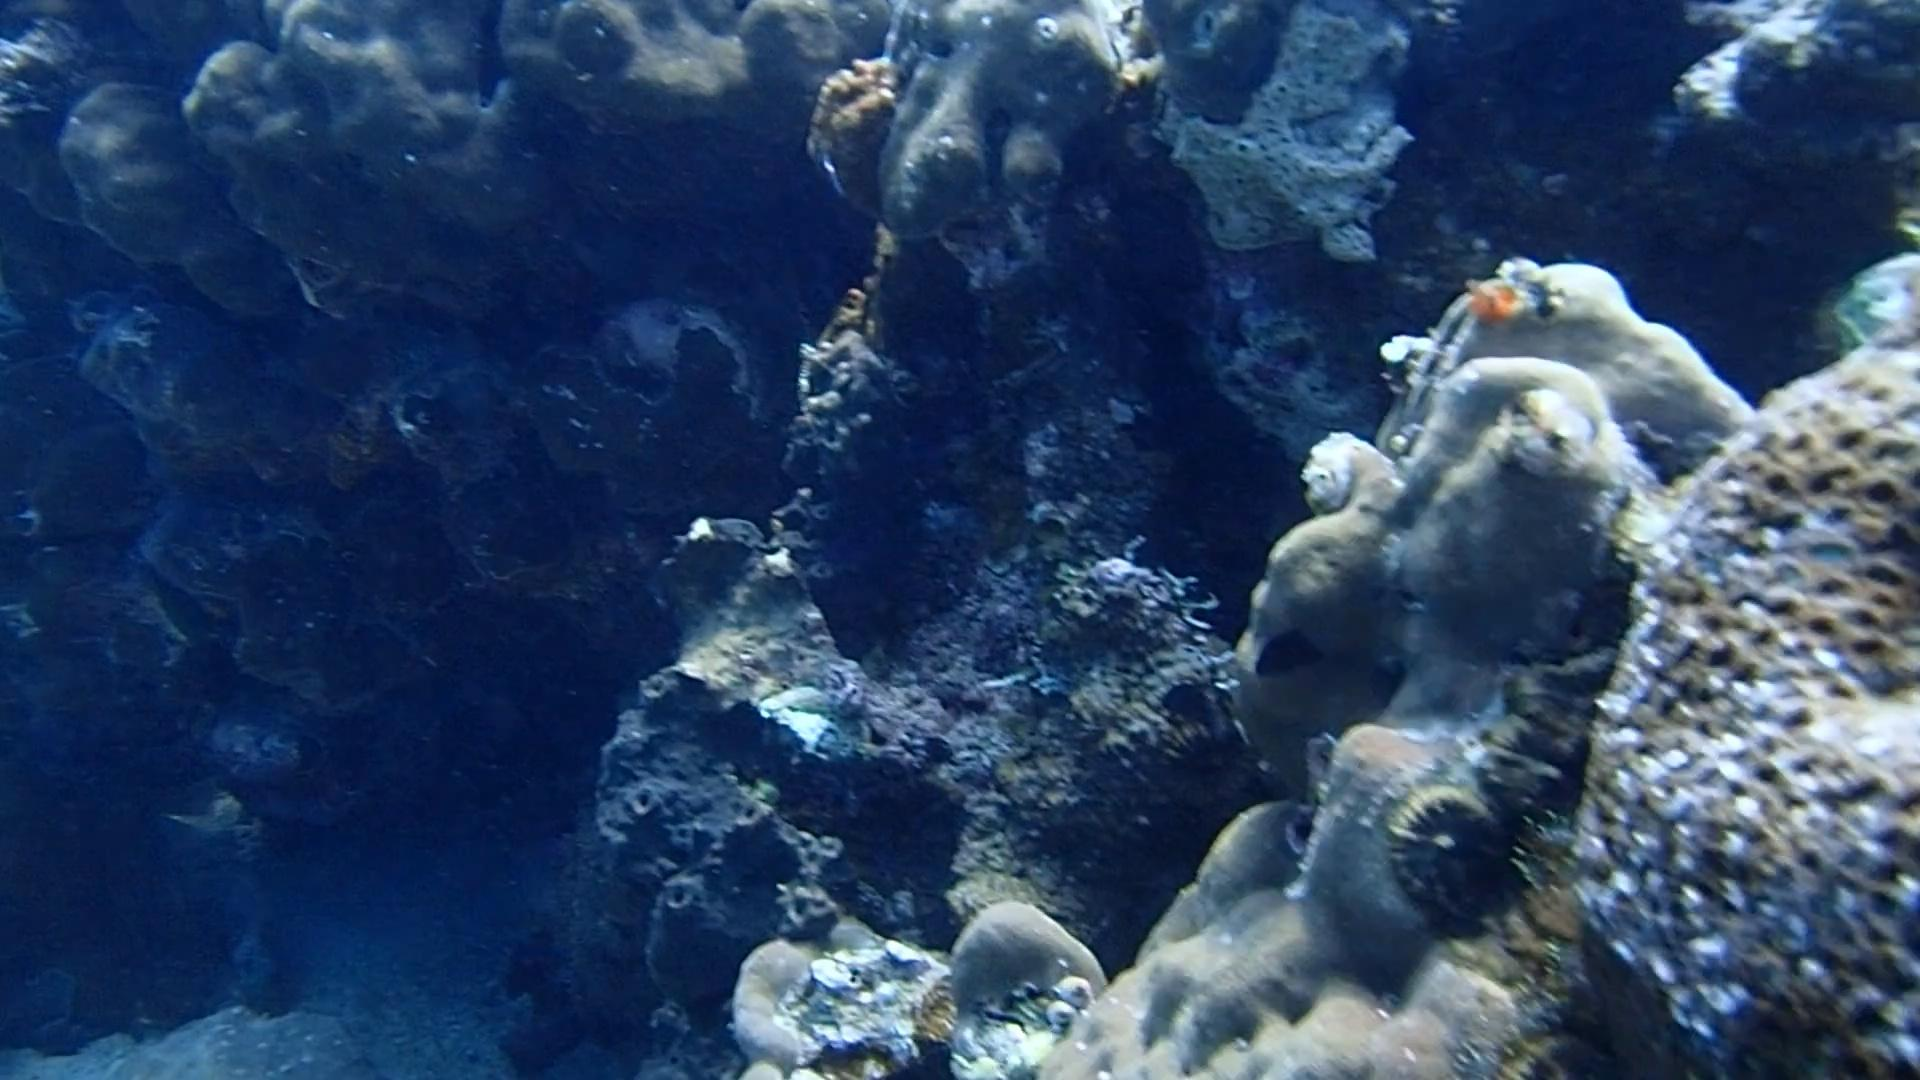Dark Fish: (1244, 624, 1328, 688), (1158, 676, 1228, 736)
